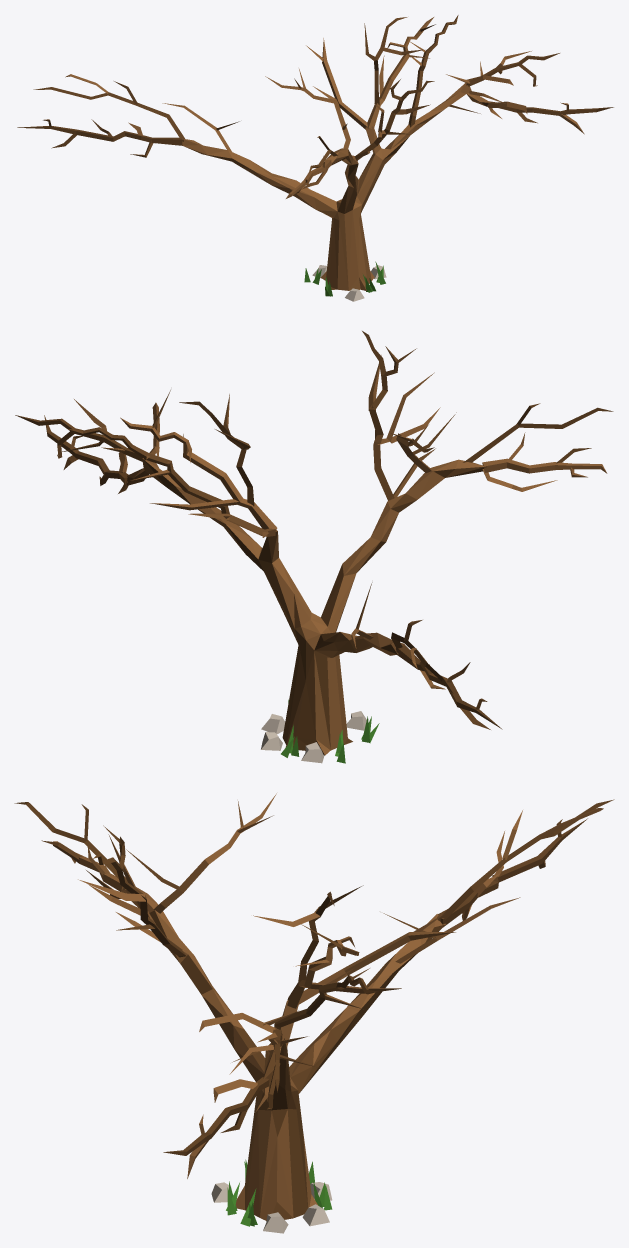
File: guayacan_4_bare.glb
3 views of the same model, one above another, from view 1: azimuth 30°, elevation 25°; view 2: azimuth 150°, elevation 25°; view 3: azimuth 270°, elevation 25° (orthographic). The views are drawn at different scales.
Visible parts, largest first — view 1: guayacan_4_bare; view 2: guayacan_4_bare; view 3: guayacan_4_bare.
Boxes of the visible parts, bbox=[...] form: guayacan_4_bare: bbox=[17, 15, 613, 301]; guayacan_4_bare: bbox=[15, 331, 613, 763]; guayacan_4_bare: bbox=[14, 793, 614, 1233].
Size of the model in its own units: 11.1 by 5.55 by 8.1.
